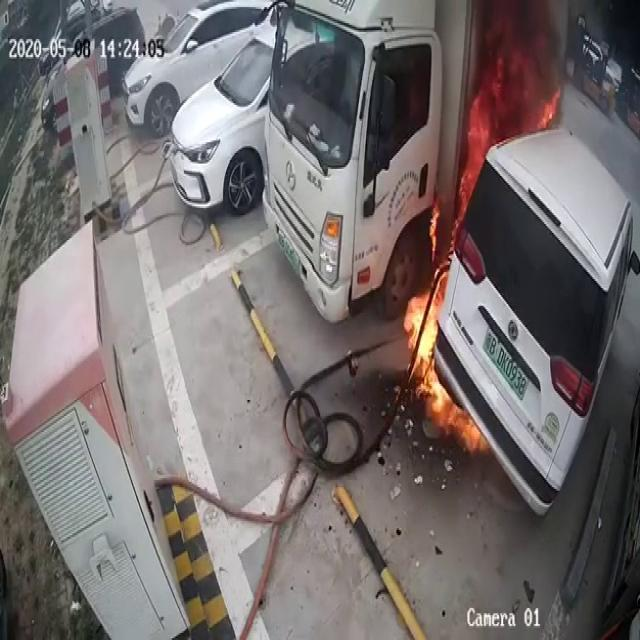Fire: (402, 215, 452, 413), (455, 88, 492, 225)
Smoke: (458, 0, 567, 166)
